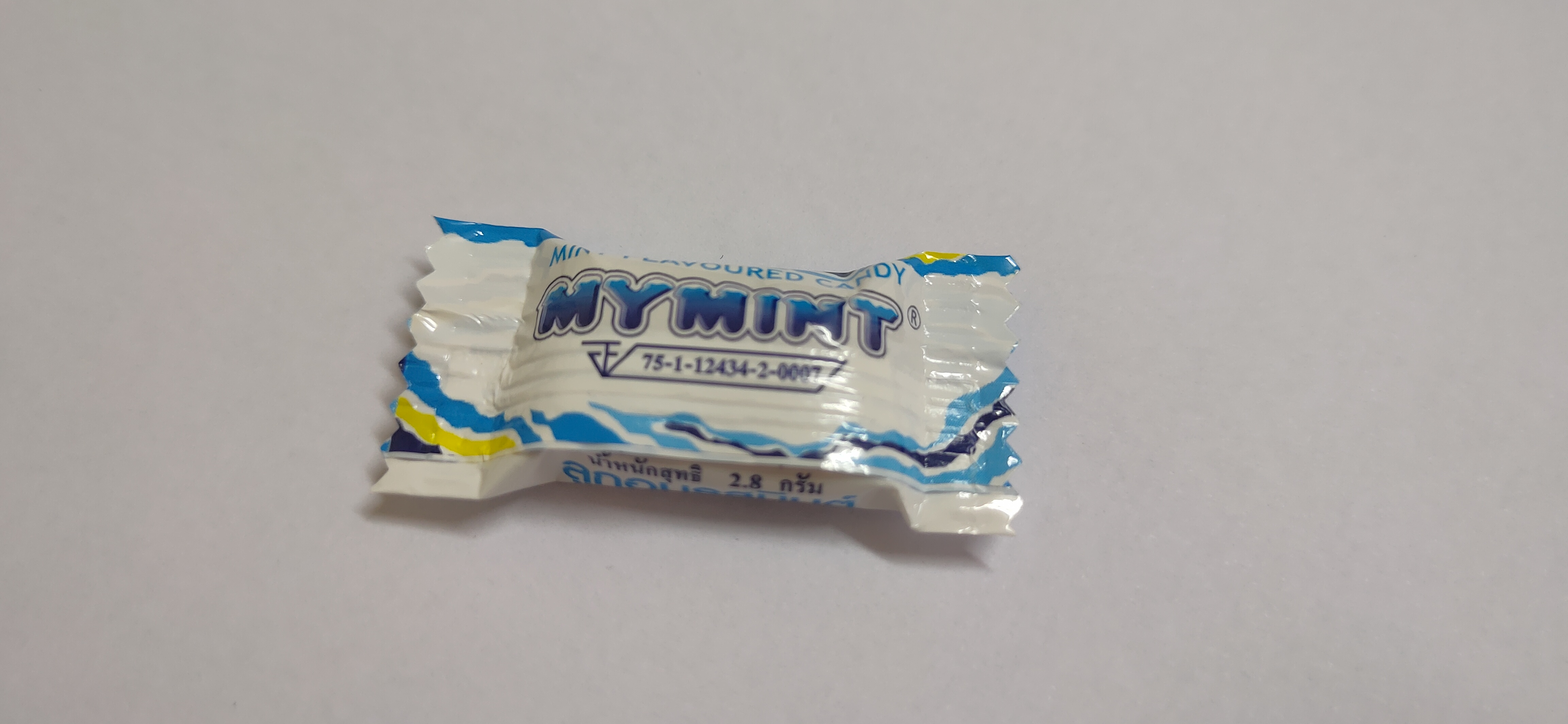plastic: (358, 198, 1054, 587)
